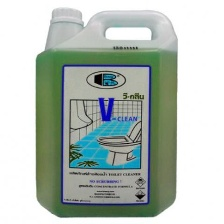cleaning_solution: (33, 5, 179, 219)
